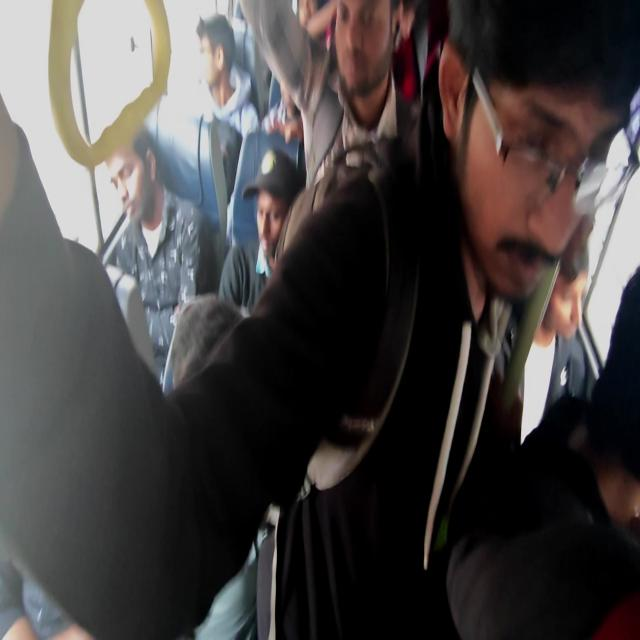person: (1, 1, 638, 637), (445, 262, 639, 638), (251, 0, 420, 277), (103, 126, 216, 388), (145, 12, 260, 240), (218, 147, 304, 317), (194, 11, 260, 140)
